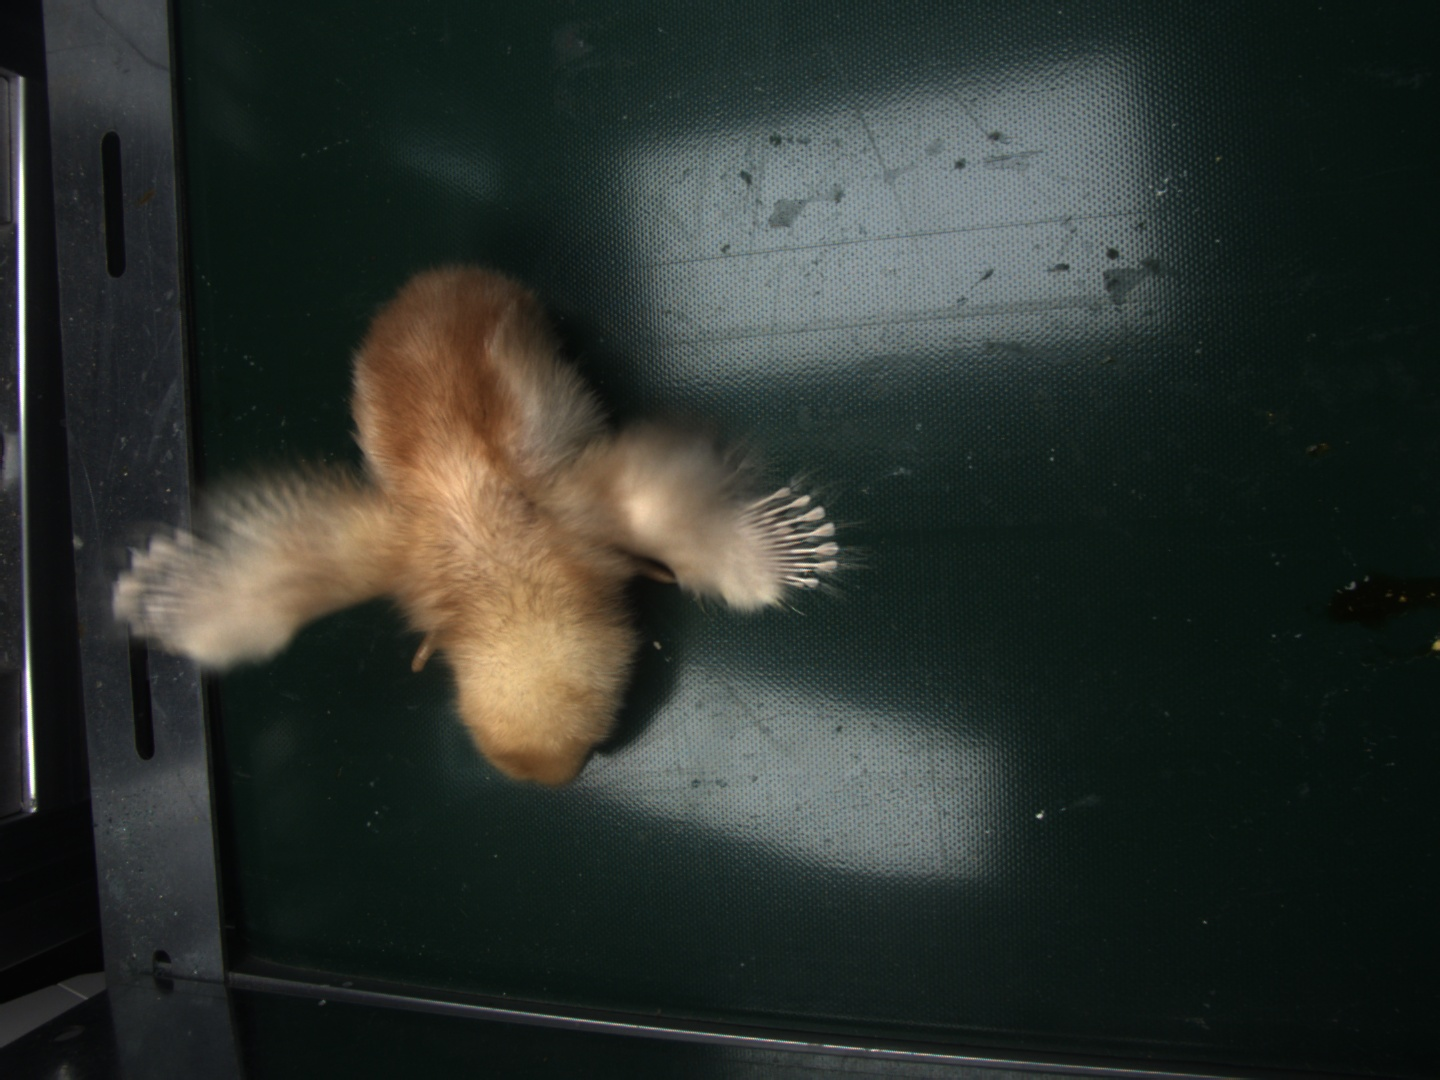female: (746, 486, 842, 590)
